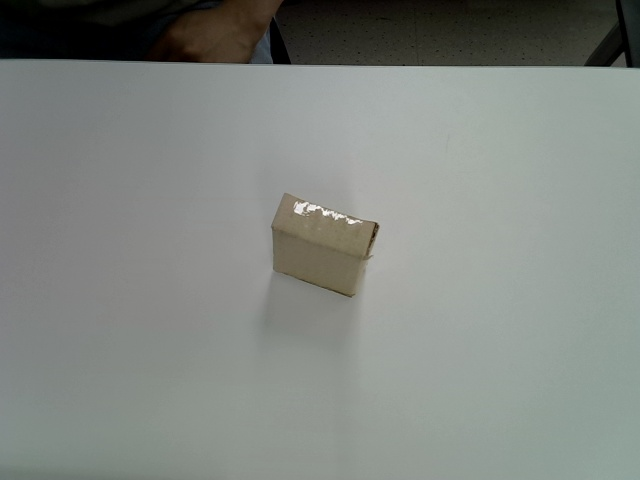normal: (271, 192, 380, 298)
